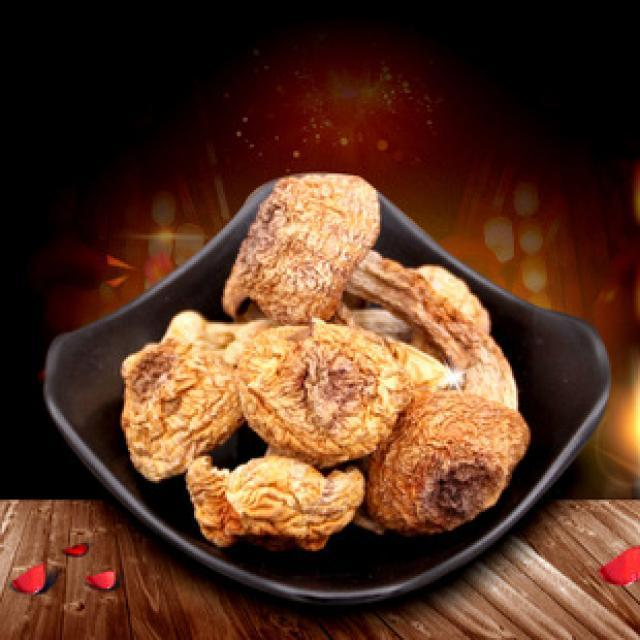Agaricus blazei Murill: (126, 175, 528, 543)
